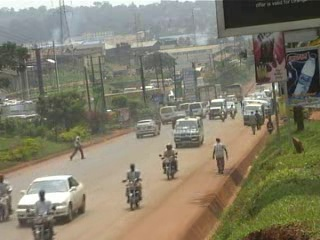Car: (16, 173, 88, 229), (132, 116, 162, 138), (168, 110, 188, 127), (208, 97, 223, 119), (225, 99, 238, 111)
Motorcycle: (27, 189, 61, 239), (119, 161, 144, 212), (157, 143, 181, 181), (0, 173, 15, 225), (217, 104, 226, 123), (228, 103, 236, 120)
